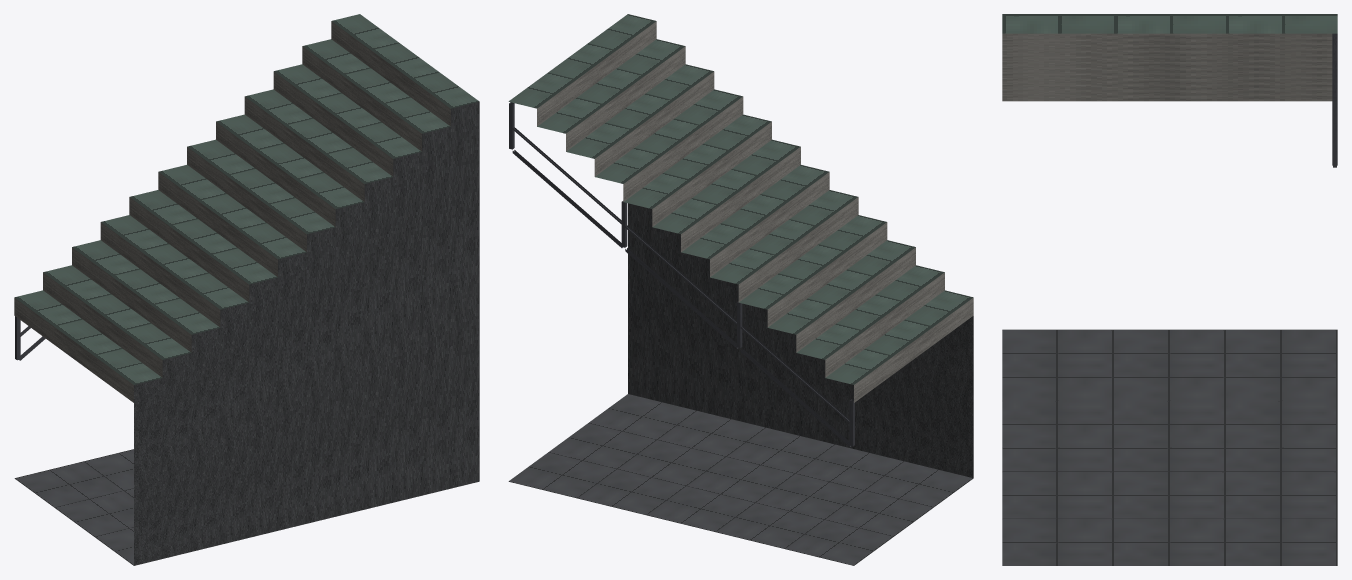
The model's file is stairs2.obj.
3 views of the same model, side by side, from view 1: azimuth 30°, elevation 25°; view 2: azimuth 150°, elevation 25°; view 3: azimuth 270°, elevation 25° (orthographic). The views are drawn at different scales.
Size of the model in its own units: 400 by 420 by 240.
5 materials, 5 textured.
